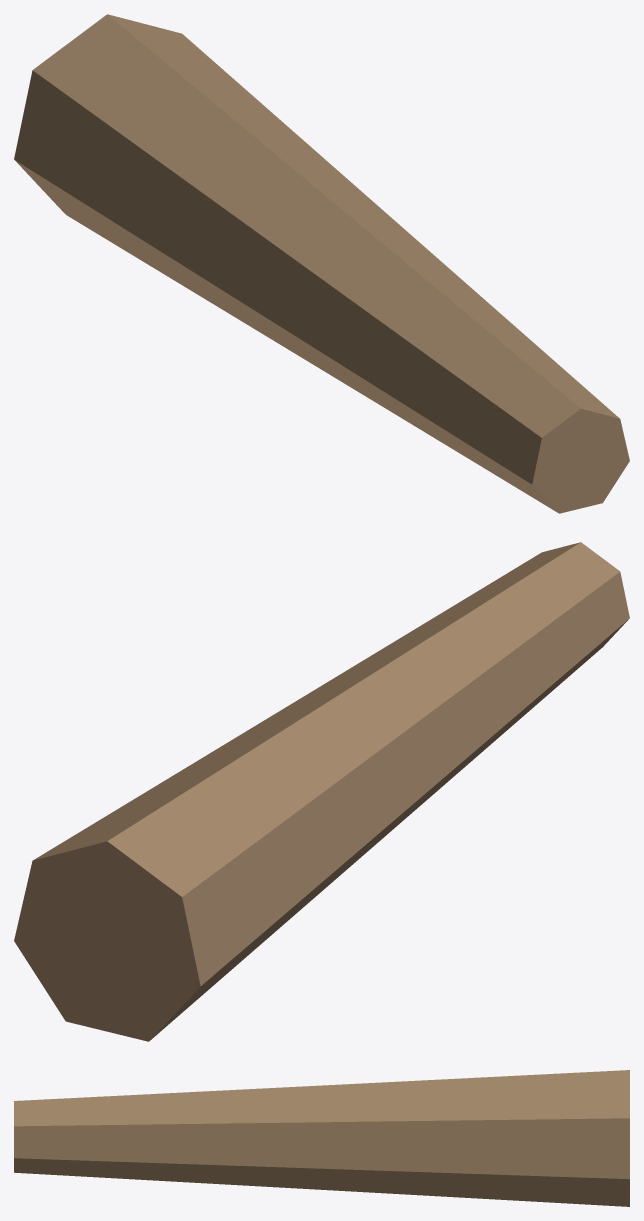
The model's file is club.glb.
3 views of the same model, one above another, from view 1: azimuth 30°, elevation 25°; view 2: azimuth 150°, elevation 25°; view 3: azimuth 270°, elevation 25° (orthographic). The views are drawn at different scales.
Parts seen in each view (by area): view 1: Knueppel; view 2: Knueppel; view 3: Knueppel.
Boxes of the visible parts, <box> form: Knueppel: <box>14,14,629,513</box>; Knueppel: <box>14,542,629,1041</box>; Knueppel: <box>14,1070,629,1206</box>.
Size of the model in its own units: 0.2047 by 0.1996 by 0.9.
